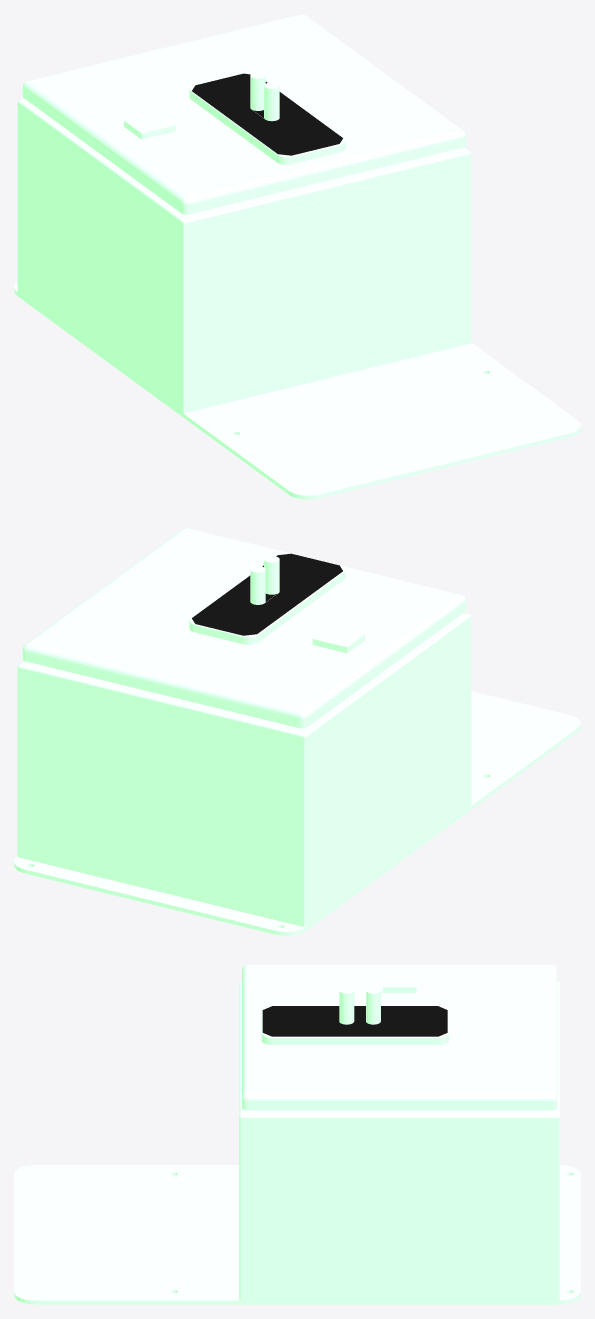
3 views of the same model, one above another, from view 1: azimuth 30°, elevation 25°; view 2: azimuth 150°, elevation 25°; view 3: azimuth 270°, elevation 25° (orthographic). The views are drawn at different scales.
Parts seen in each view (by area): view 1: D1; view 2: D1; view 3: D1.
Part boxes in pixels (x1,y1,x2,y2): D1: (14, 14, 580, 499); D1: (14, 528, 580, 935); D1: (14, 964, 580, 1304).
Size of the model in its own units: 30 by 53 by 25.4.
